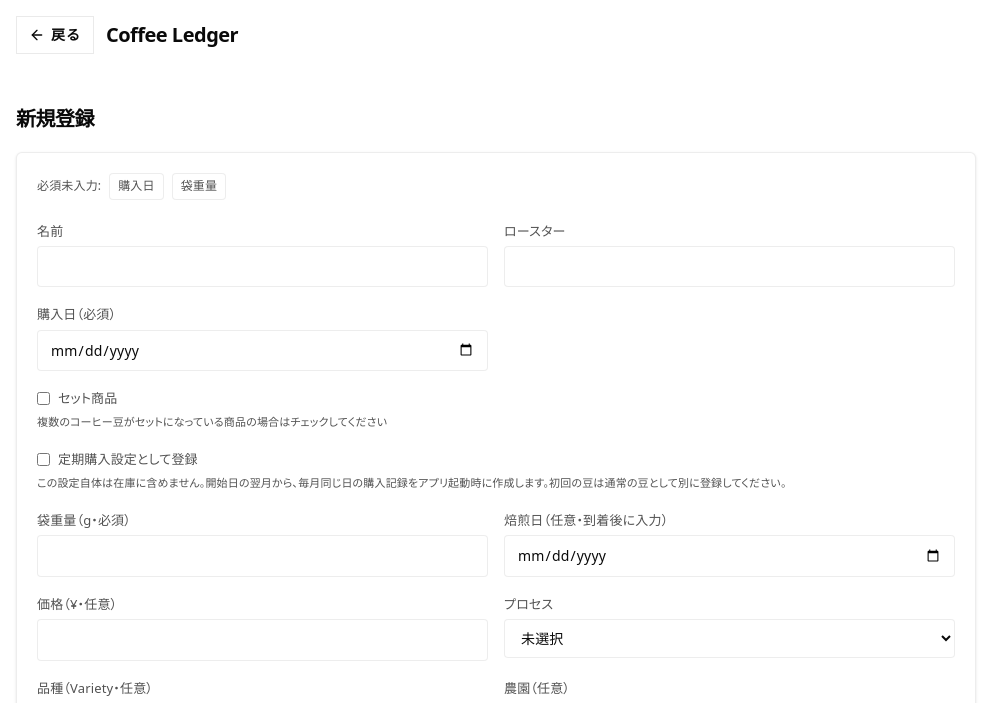
Test: NewBagPage › Set Product Features › should show set-specific fields when checkbox is checked
Click the checkbox labelled "セット商品": click(44, 398) [37,392,50,405]
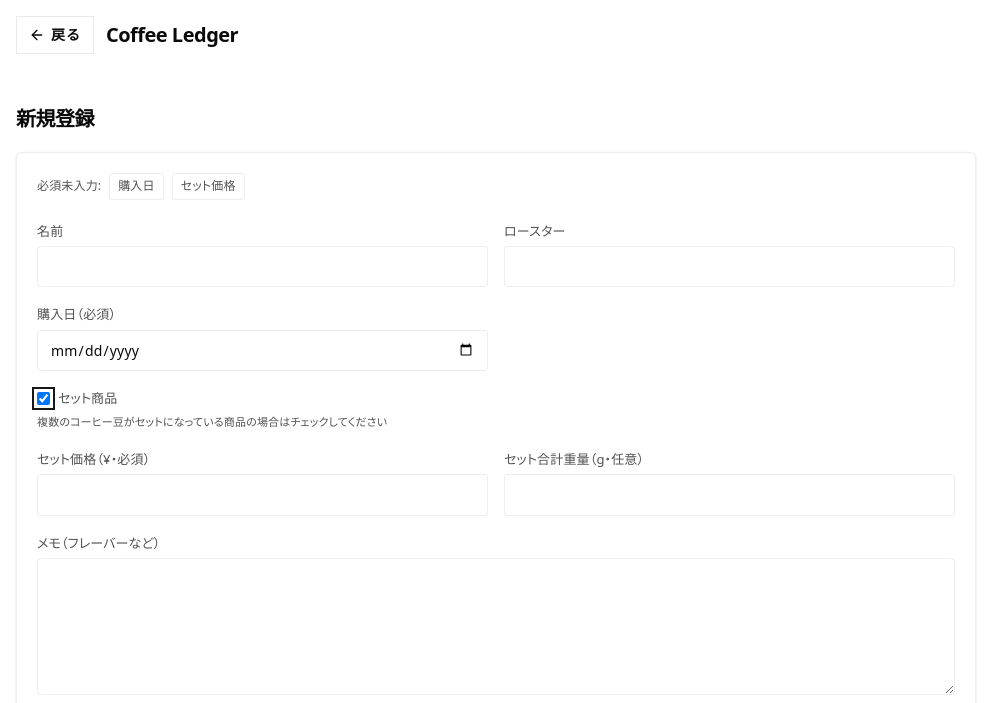
expect the label labelled "袋重量（g・必須）" is gone: met
